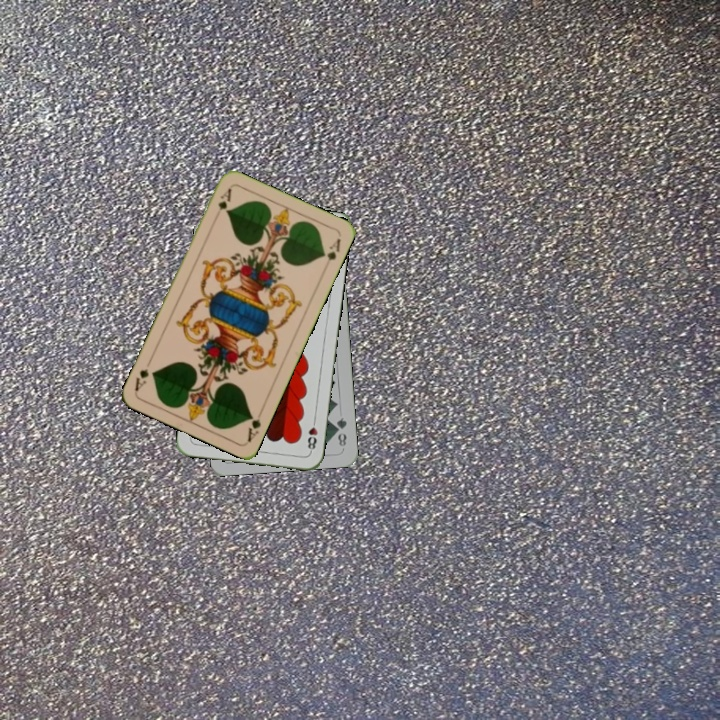G8: (332, 414, 349, 449)
GA: (243, 411, 263, 444), (214, 184, 234, 213)
H8: (304, 414, 320, 455)
